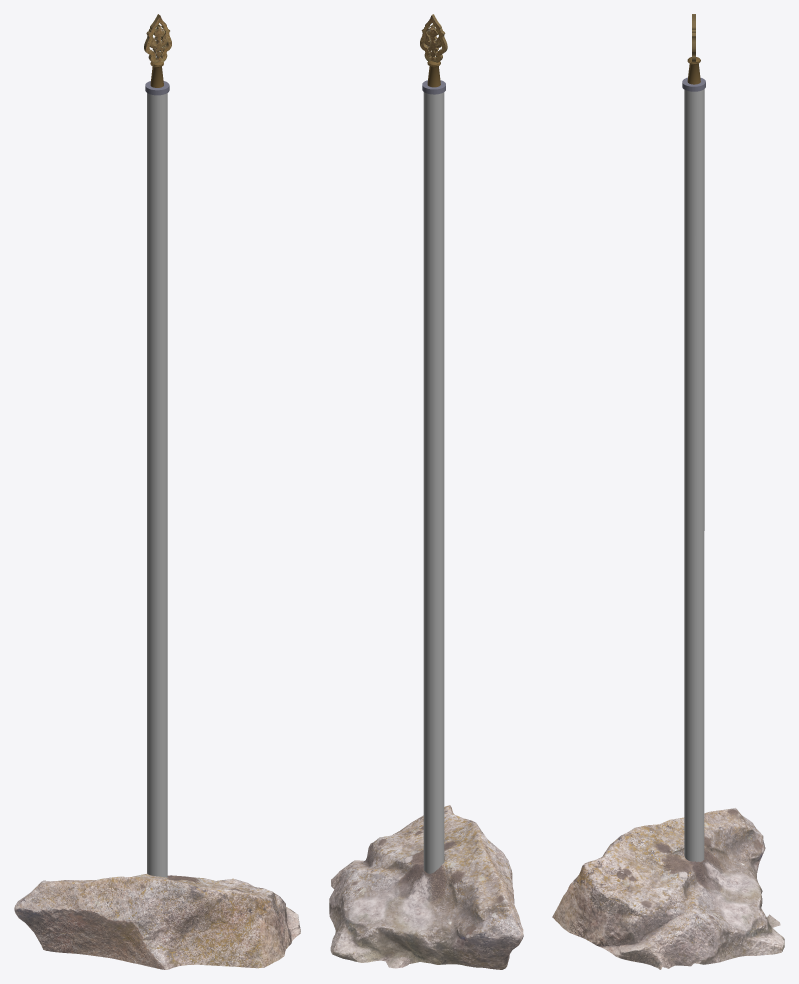
File: Fahnenstange_2.glb
3 views of the same model, side by side, from view 1: azimuth 30°, elevation 25°; view 2: azimuth 150°, elevation 25°; view 3: azimuth 270°, elevation 25° (orthographic). The views are drawn at different scales.
Visible parts, largest first — view 1: Object_2, Circle.006; view 2: Object_2, Circle.006; view 3: Object_2, Circle.006.
Part boxes in pixels (box(x1,y1,x2,y2)): Object_2: box(14, 873, 300, 969); Circle.006: box(144, 14, 171, 877); Object_2: box(329, 805, 523, 969); Circle.006: box(420, 14, 447, 873); Object_2: box(552, 808, 784, 969); Circle.006: box(682, 14, 705, 861).
Bounding box in the file's own units: 0.9009 × 3.38 × 0.782.
Materials: 7 (3 with a texture image).
